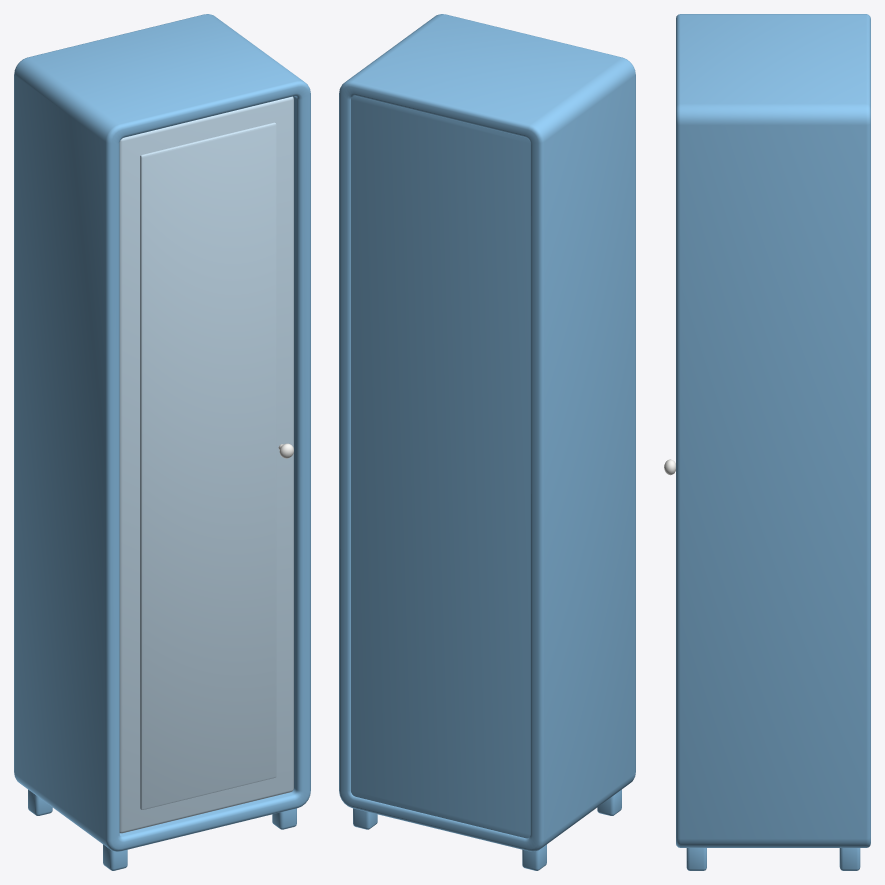
Rendered from armario_alto_estreito_azul.glb.
3 renders of one model, left to right at view 1: azimuth 30°, elevation 25°; view 2: azimuth 150°, elevation 25°; view 3: azimuth 270°, elevation 25°, orthographic. The views are drawn at different scales.
Visible parts, largest first — view 1: porta_1, armario_alto_estreito_azul; view 2: armario_alto_estreito_azul; view 3: armario_alto_estreito_azul.
Boxes of the visible parts, box(x1,y1,x2,y2) form: porta_1: box(119, 96, 293, 833); armario_alto_estreito_azul: box(14, 14, 310, 870); armario_alto_estreito_azul: box(339, 14, 635, 870); armario_alto_estreito_azul: box(676, 14, 870, 870).
Bounding box in the file's own units: 0.52 × 1.82 × 0.4454.
Materials: 1 (1 with a texture image).
